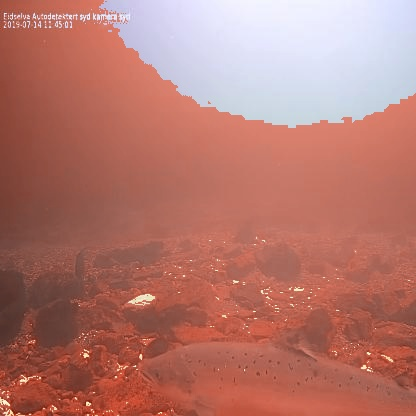salmon: (136, 320, 416, 416)
